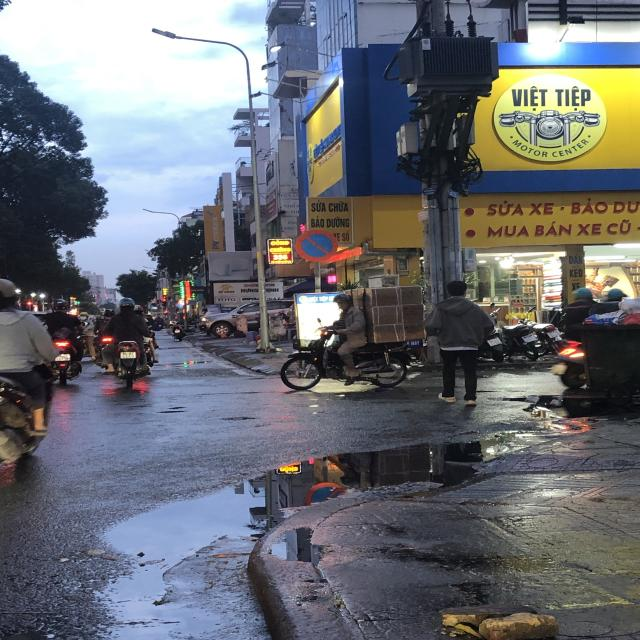Bien bao cam do xe: (292, 227, 342, 263)
